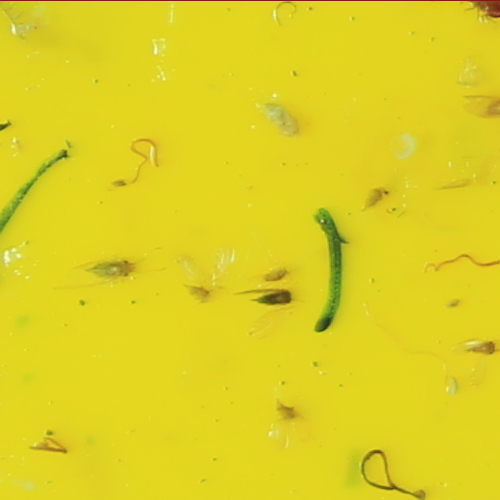psylla: (89, 253, 135, 279), (251, 288, 298, 308), (182, 280, 208, 302), (467, 338, 496, 355)
